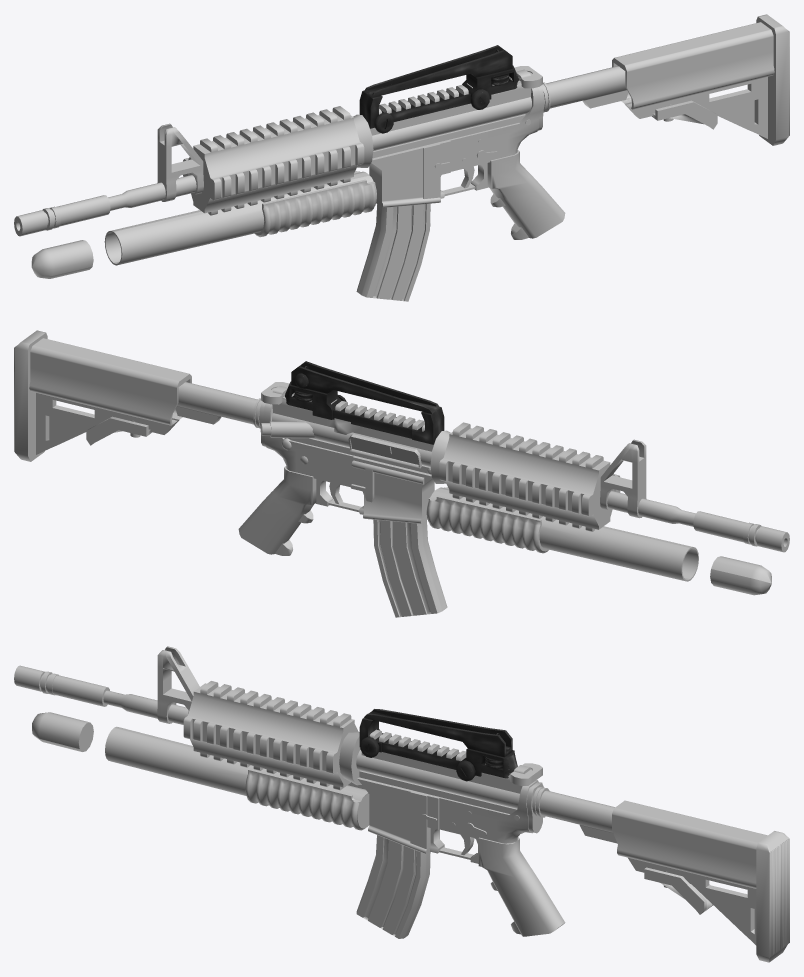
The model's file is AssaultRifle+GL.fbx.
3 views of the same model, one above another, from view 1: azimuth 30°, elevation 25°; view 2: azimuth 150°, elevation 25°; view 3: azimuth 330°, elevation 25° (orthographic).
Visible parts, largest first — view 1: ar_Body, GranadeLauncher, ar_Ironsight, ar_Magazine, Grenade1; view 2: ar_Body, GranadeLauncher, ar_Ironsight, ar_Magazine, Grenade1; view 3: ar_Body, GranadeLauncher, ar_Ironsight, ar_Magazine, Grenade1.
Part boxes in pixels (x1,y1,x2,y2): ar_Body: (14, 14, 789, 239); GranadeLauncher: (104, 171, 376, 265); ar_Ironsight: (359, 45, 518, 133); ar_Magazine: (356, 203, 430, 301); Grenade1: (31, 240, 93, 278); ar_Body: (14, 330, 789, 555); GranadeLauncher: (426, 487, 698, 581); ar_Ironsight: (285, 361, 444, 444); ar_Magazine: (373, 519, 447, 617); Grenade1: (710, 556, 771, 595); ar_Body: (14, 646, 789, 962); GranadeLauncher: (105, 726, 369, 830); ar_Ironsight: (359, 709, 517, 781); ar_Magazine: (356, 835, 430, 938); Grenade1: (32, 712, 93, 751).
Bounding box in the file's own units: 59.57 × 17.14 × 4.48.
